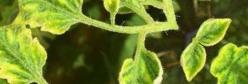Tomato leaf yellow virus: (0, 0, 103, 53), (105, 38, 184, 84), (168, 37, 213, 84), (76, 0, 149, 27), (191, 52, 248, 84)
